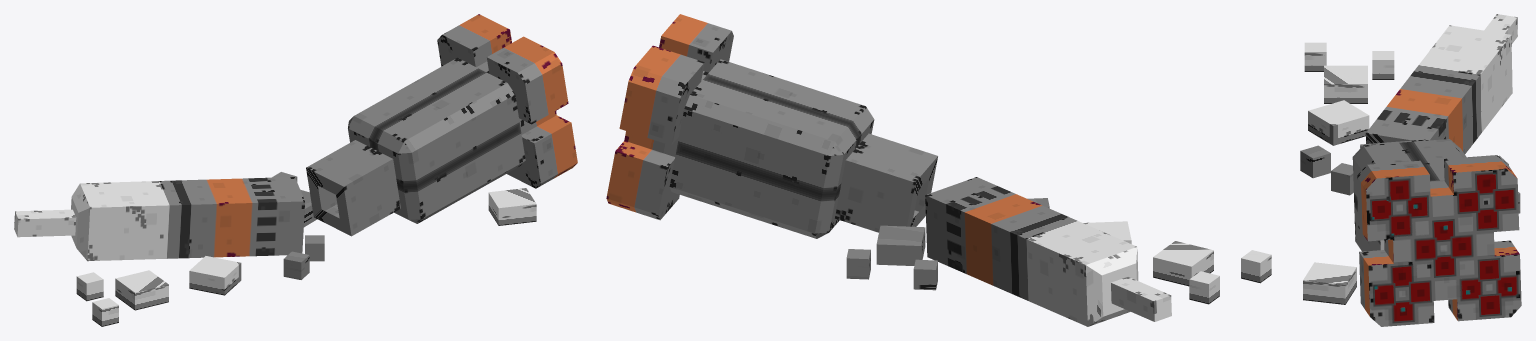
Rendered from C2_Garbage_03-5.FBX.
3 views of the same model, side by side, from view 1: azimuth 30°, elevation 25°; view 2: azimuth 150°, elevation 25°; view 3: azimuth 270°, elevation 25° (orthographic). The views are drawn at different scales.
Parts seen in each view (by area): view 1: Box003; view 2: Box003; view 3: Box003.
Part boxes in pixels (x1,y1,x2,y2): Box003: [14, 14, 577, 326]; Box003: [606, 14, 1271, 326]; Box003: [1300, 14, 1521, 326].
Size of the model in its own units: 352 by 91.13 by 119.
Materials: 1 (1 with a texture image).
